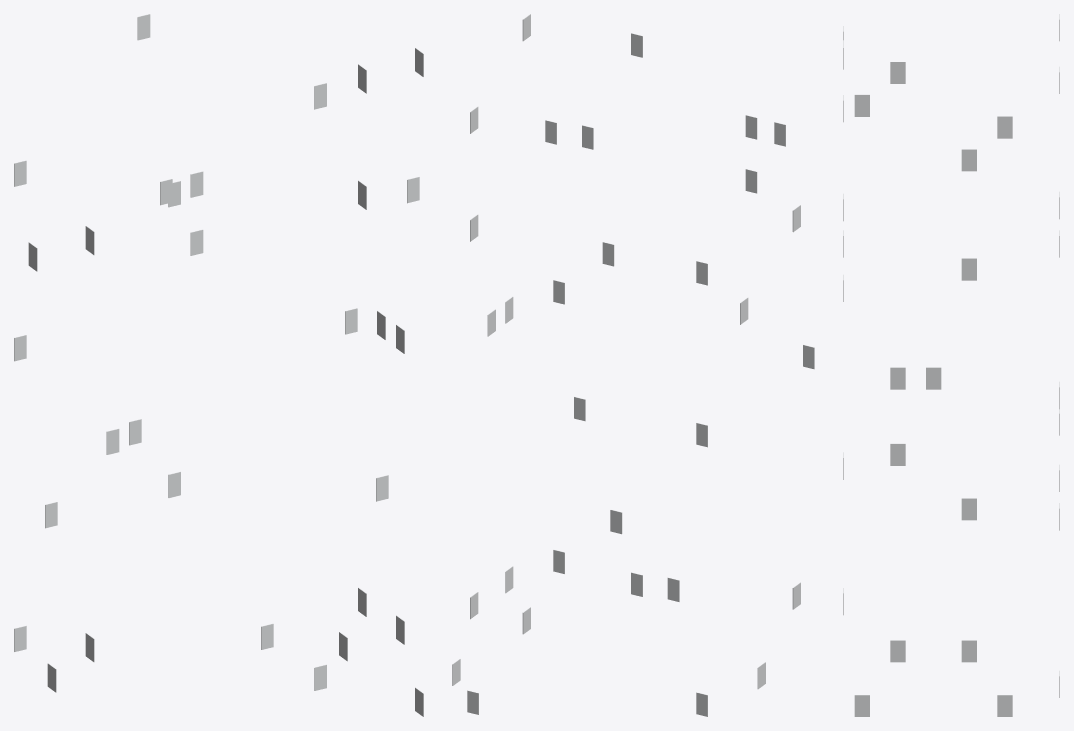
The model's file is env_city_residential_lit.fbx.
The picture shows the model from 3 angles, left to right: view 1: azimuth 30°, elevation 25°; view 2: azimuth 150°, elevation 25°; view 3: azimuth 270°, elevation 25°; orthographic projection. The views are drawn at different scales.
Parts seen in each view (by area): view 1: env_city_residential_lit; view 2: env_city_residential_lit; view 3: env_city_residential_lit.
Boxes of the visible parts, <box> form: env_city_residential_lit: <box>14,14,423,716</box>; env_city_residential_lit: <box>452,14,814,716</box>; env_city_residential_lit: <box>843,14,1059,716</box>.
Bounding box in the file's own units: 5034 × 10260 × 3234.
